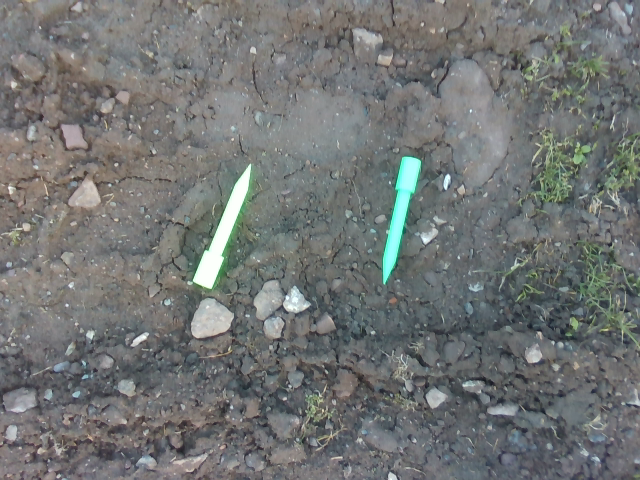Probe: (191, 162, 252, 291), (378, 152, 426, 289)
